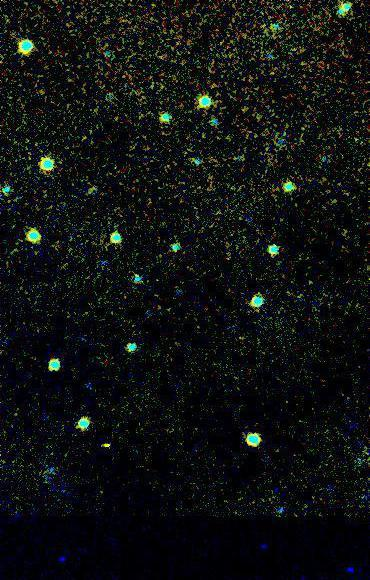star: (92, 428, 122, 458)
